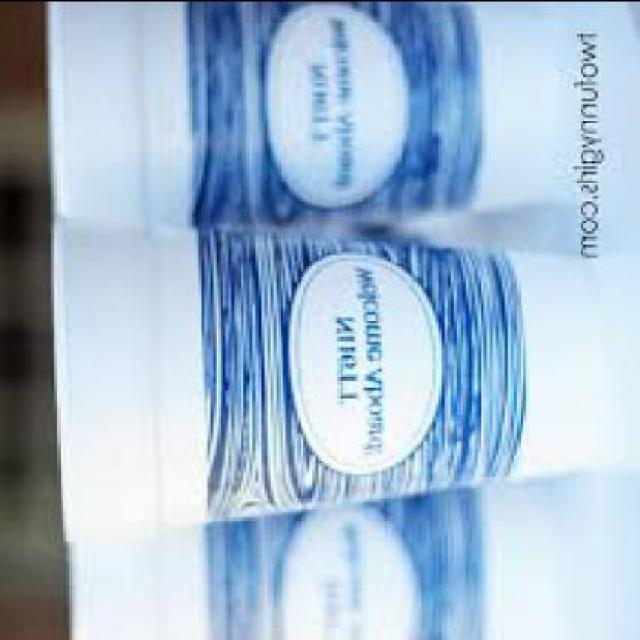PAPER: (48, 211, 610, 537), (38, 1, 571, 228), (63, 483, 482, 637)
